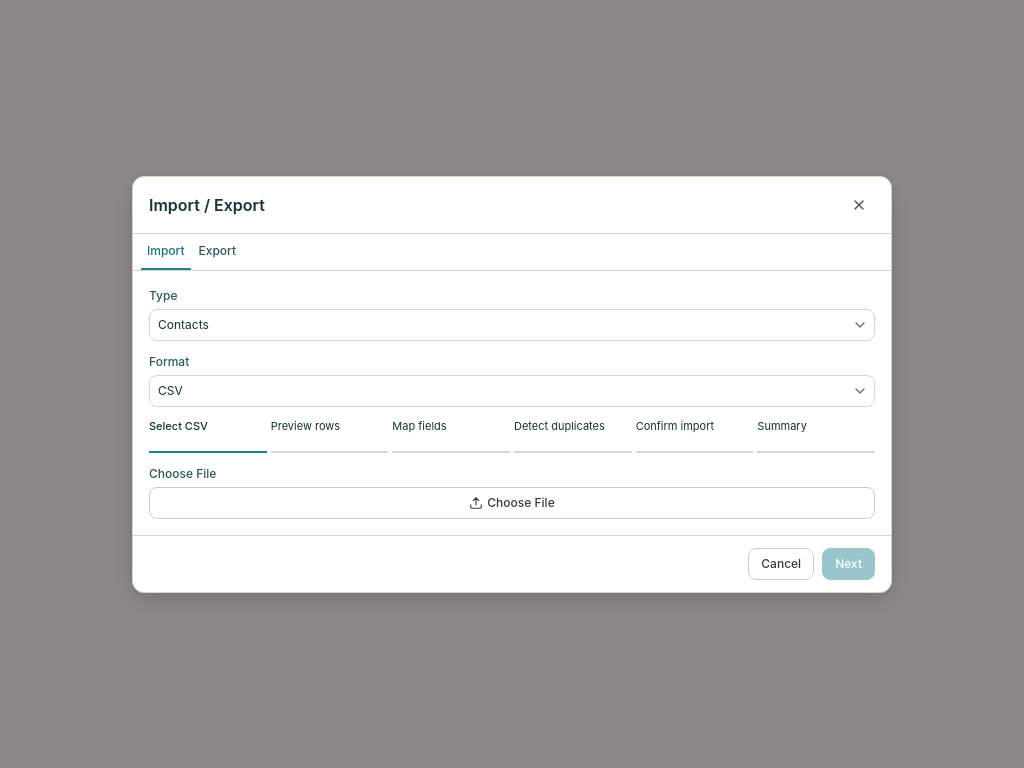
Scenario: ImportExport component › supports notes JSON imports through mapping and confirmation without duplicate review
Select "Notes" in the dropdown labelled "Type": (512, 324) [149,308,875,340]
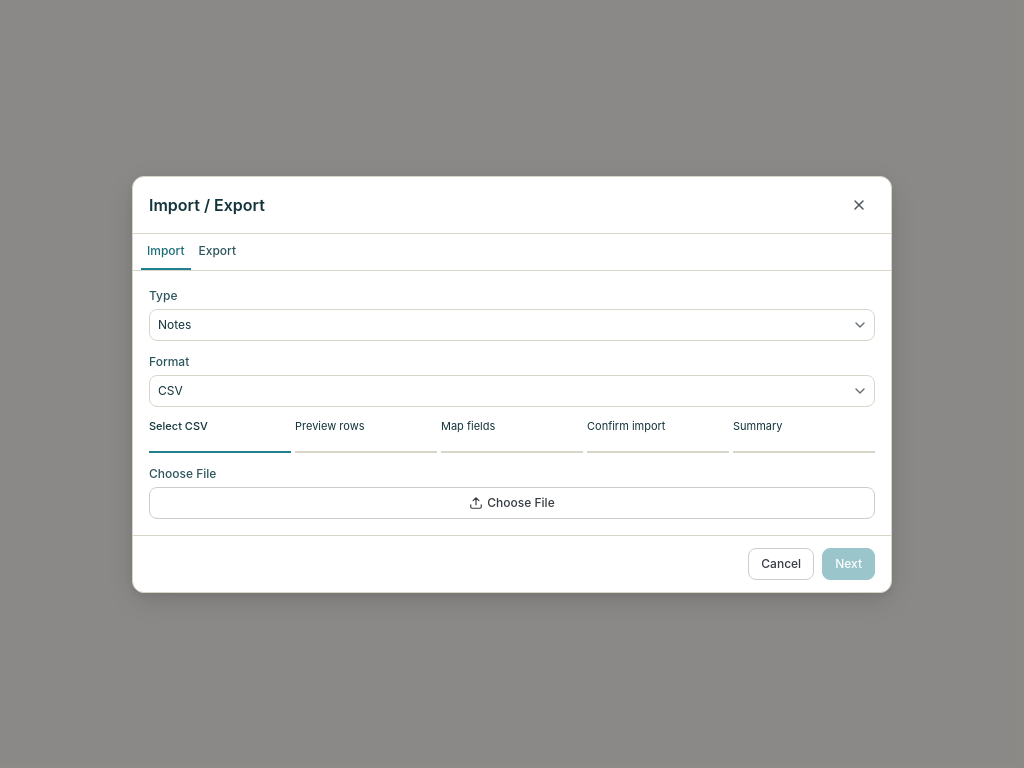
Select "JSON" in the dropdown labelled "Format": (512, 390) [149,374,875,406]
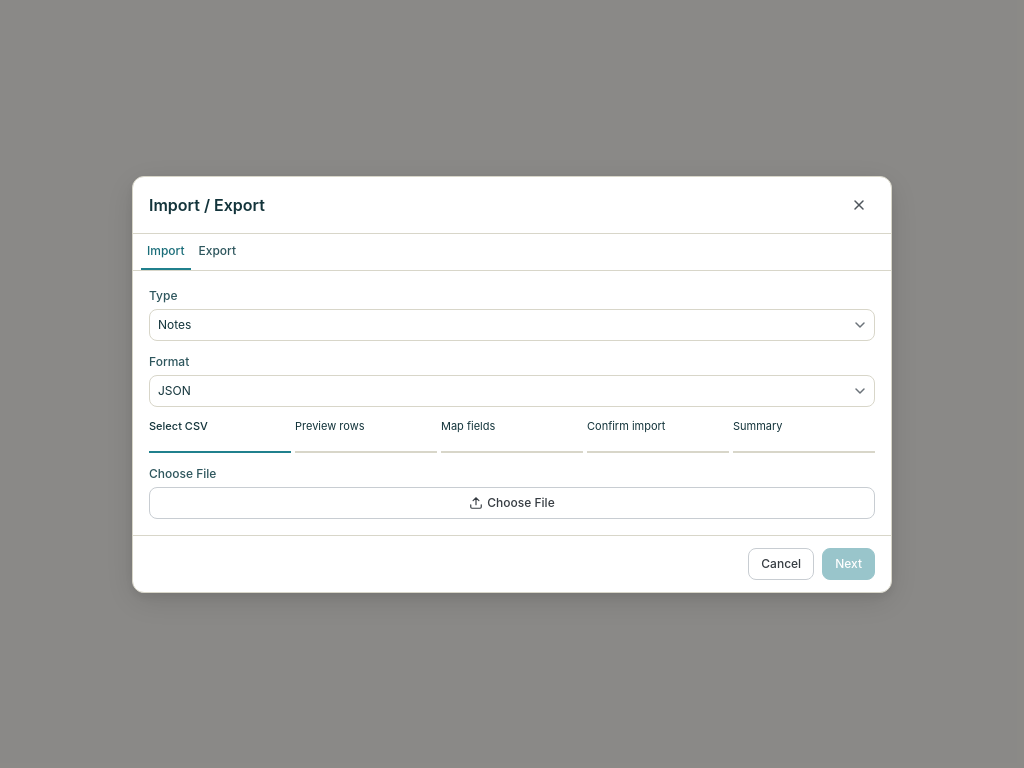
Click the button "Choose File": (512, 502) [149,486,875,518]
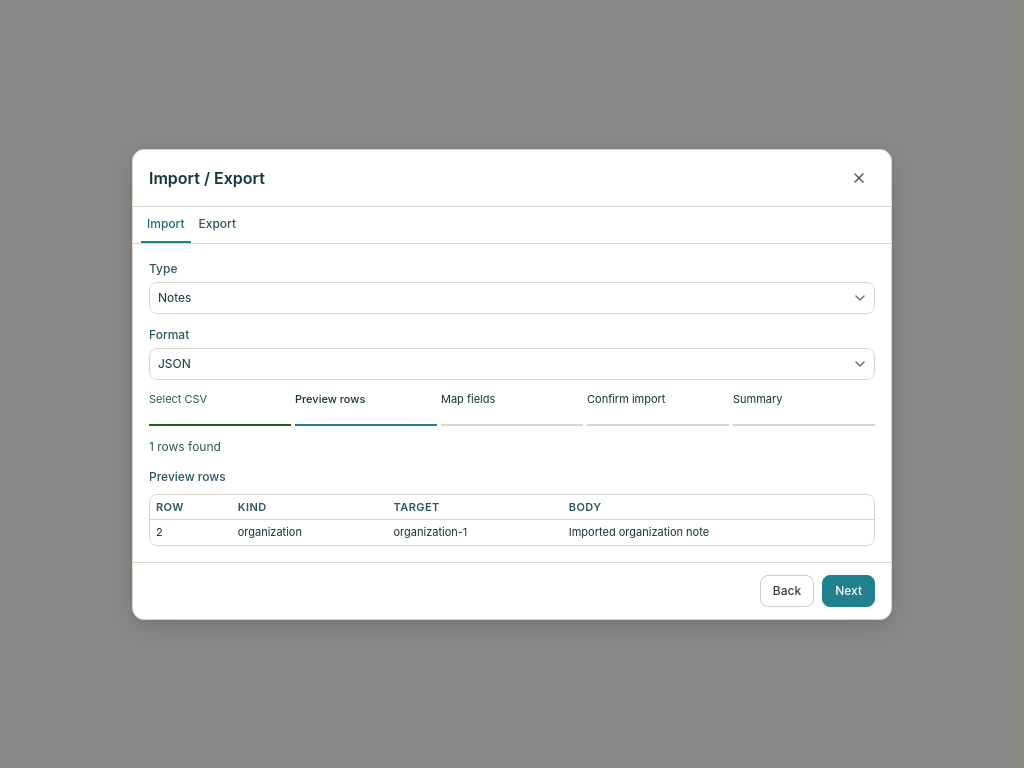
Expected: the text "Imported organization note" is shown, [563,520,874,544]
Click the button "Next": (849, 590) [822,574,875,606]
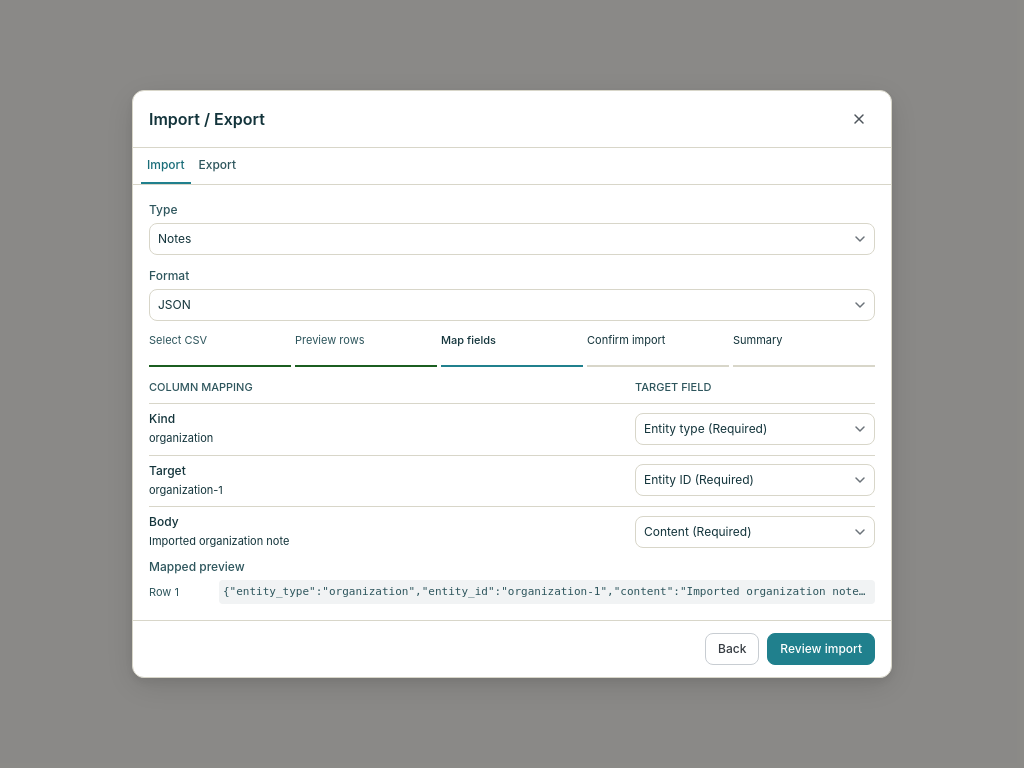
Expected: the text "Column Mapping" is shown, [149,380,253,394]
Expected: the dropdown named "Map to field: Kind" is shown, [635,412,875,444]
Expected: the dropdown named "Map to field: Target" is shown, [635,464,875,496]
Click the button "Review import": (821, 649) [767,633,875,665]
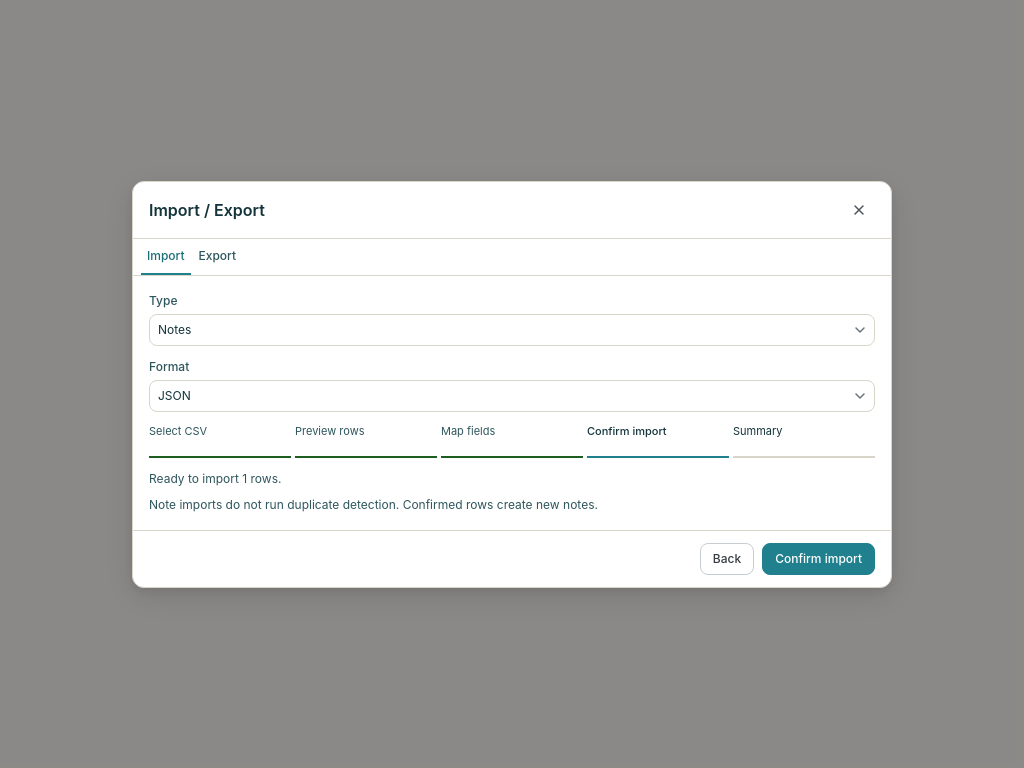
Expected: the text "Note imports do not run duplicate detection. Confirmed rows create new notes." is shown, [149,496,598,512]
Click the button "Confirm import": (819, 558) [762,542,875,574]
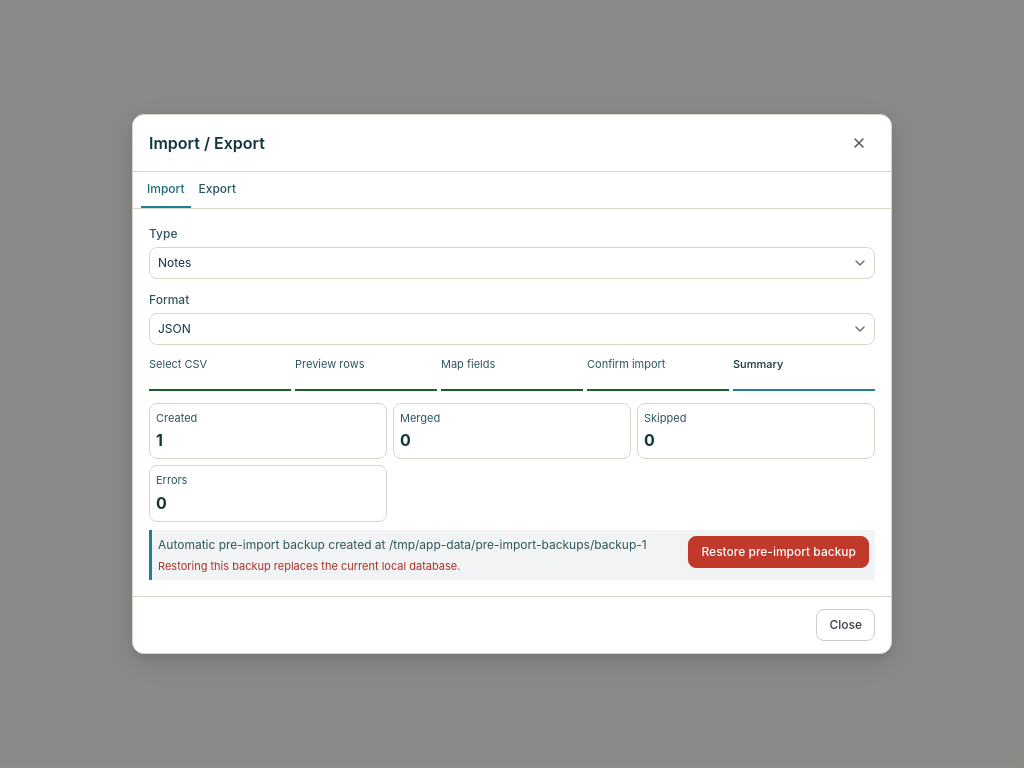
Expected: the text "Created" is shown, [156,411,197,425]
